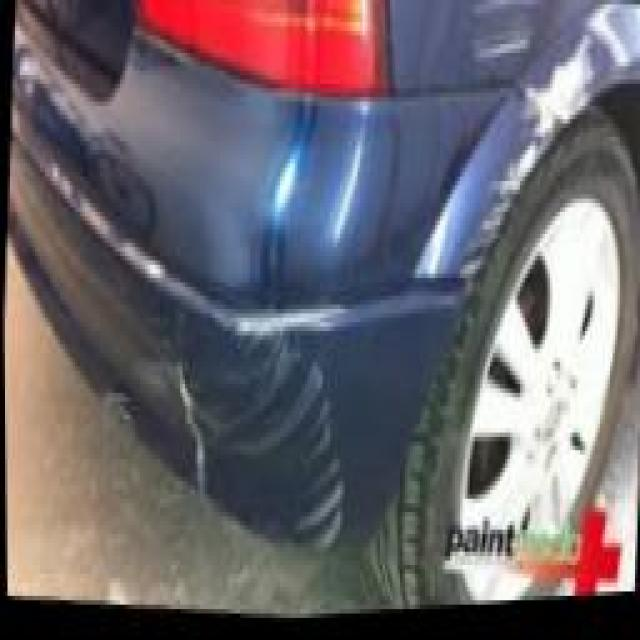Bumper: (52, 161, 466, 571)
Fender: (343, 0, 640, 293)
